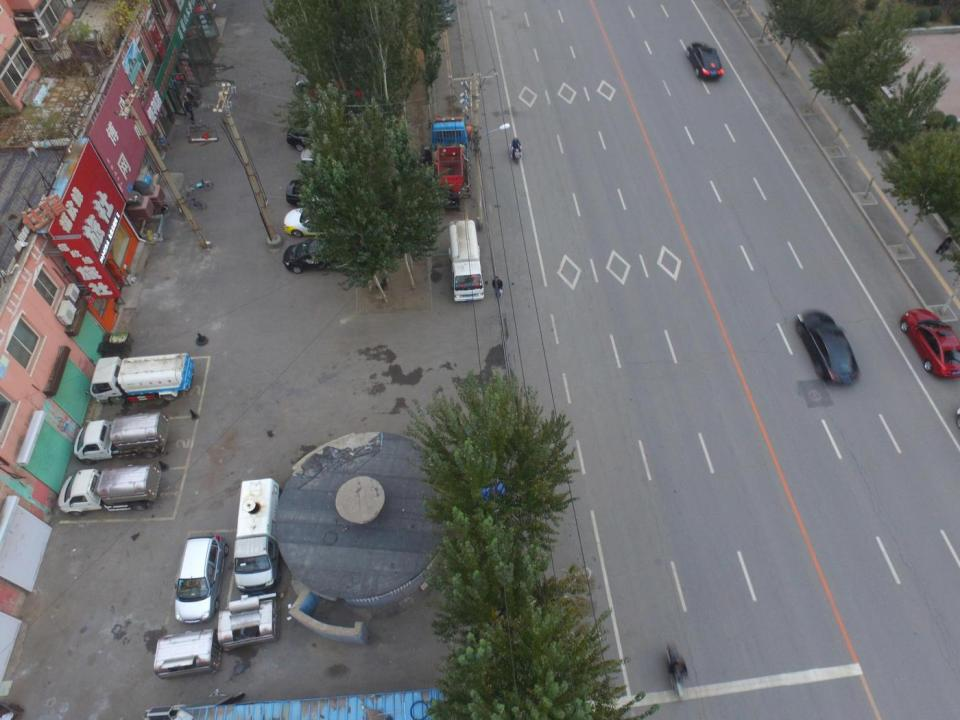car: (795, 310, 860, 386), (899, 310, 960, 382), (284, 239, 372, 270), (287, 116, 364, 148), (287, 177, 359, 210), (284, 208, 374, 233), (687, 40, 726, 82)
truck: (92, 355, 196, 408), (56, 463, 161, 511), (73, 411, 172, 459), (428, 116, 475, 206), (447, 219, 484, 300)
van: (232, 478, 280, 594), (171, 536, 225, 624)
